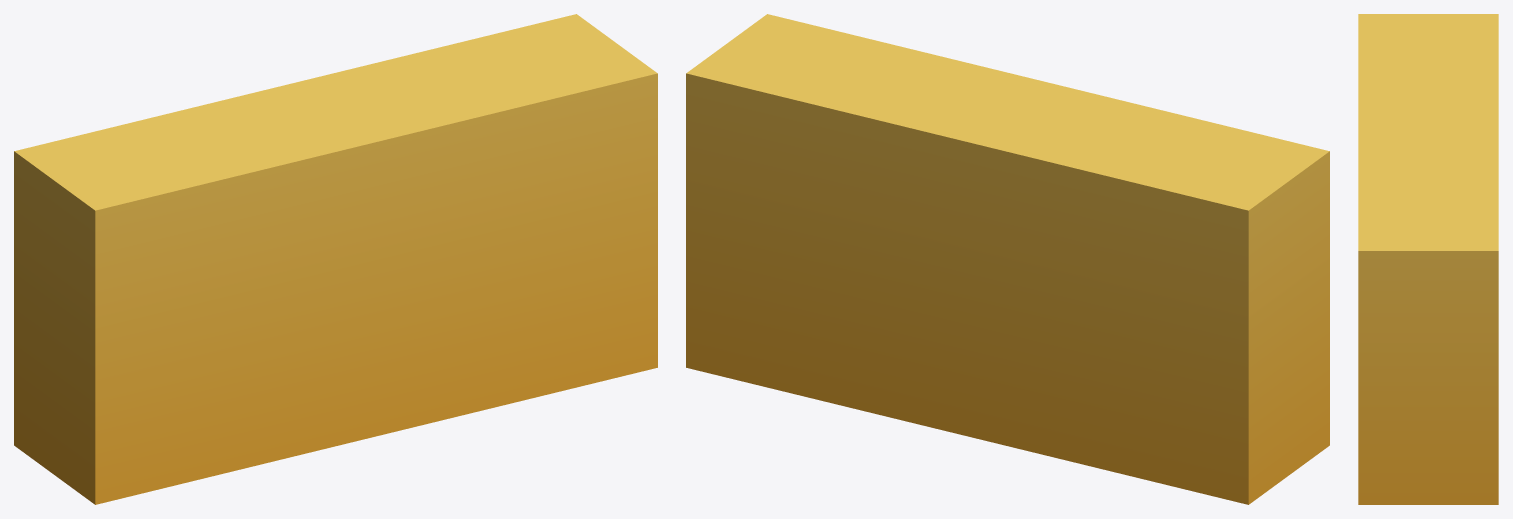
The model's file is Primitive_Wall_Short.glb.
3 views of the same model, side by side, from view 1: azimuth 30°, elevation 25°; view 2: azimuth 150°, elevation 25°; view 3: azimuth 270°, elevation 25° (orthographic). The views are drawn at different scales.
Parts seen in each view (by area): view 1: Primitive_Wall_Short; view 2: Primitive_Wall_Short; view 3: Primitive_Wall_Short.
Boxes of the visible parts, bbox=[...] form: Primitive_Wall_Short: bbox=[14, 14, 657, 504]; Primitive_Wall_Short: bbox=[686, 14, 1329, 504]; Primitive_Wall_Short: bbox=[1358, 14, 1498, 504].
Size of the model in its own units: 4 by 2 by 1.
Materials: 1 (1 with a texture image).
